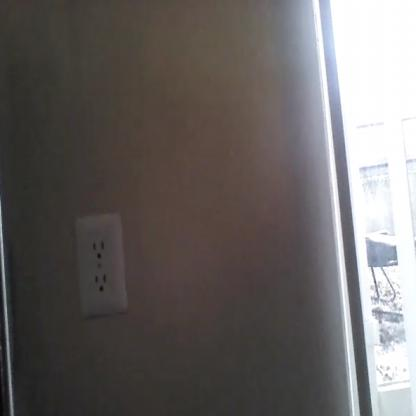OUTLET: (73, 214, 129, 317)
